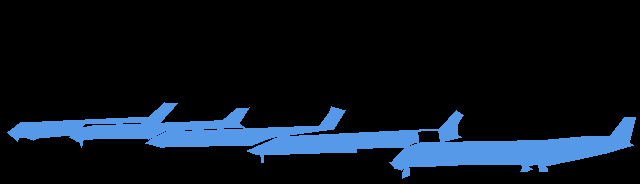Airplane: (389, 117, 636, 179), (247, 110, 464, 163), (145, 106, 345, 147), (69, 107, 249, 148), (7, 102, 178, 142)
